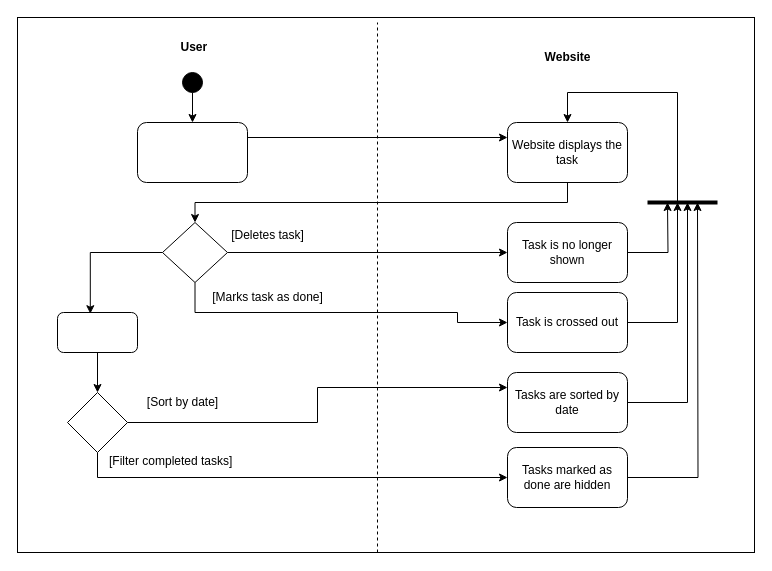
The diagram is 772 pixels wide and 571 high, and some of its shapes have lost their labels. Each missing label, with the centre of its shape:
Toggle switches: the point at 97,332
User enters a task, date and clicks "create tasK": the point at 192,152
